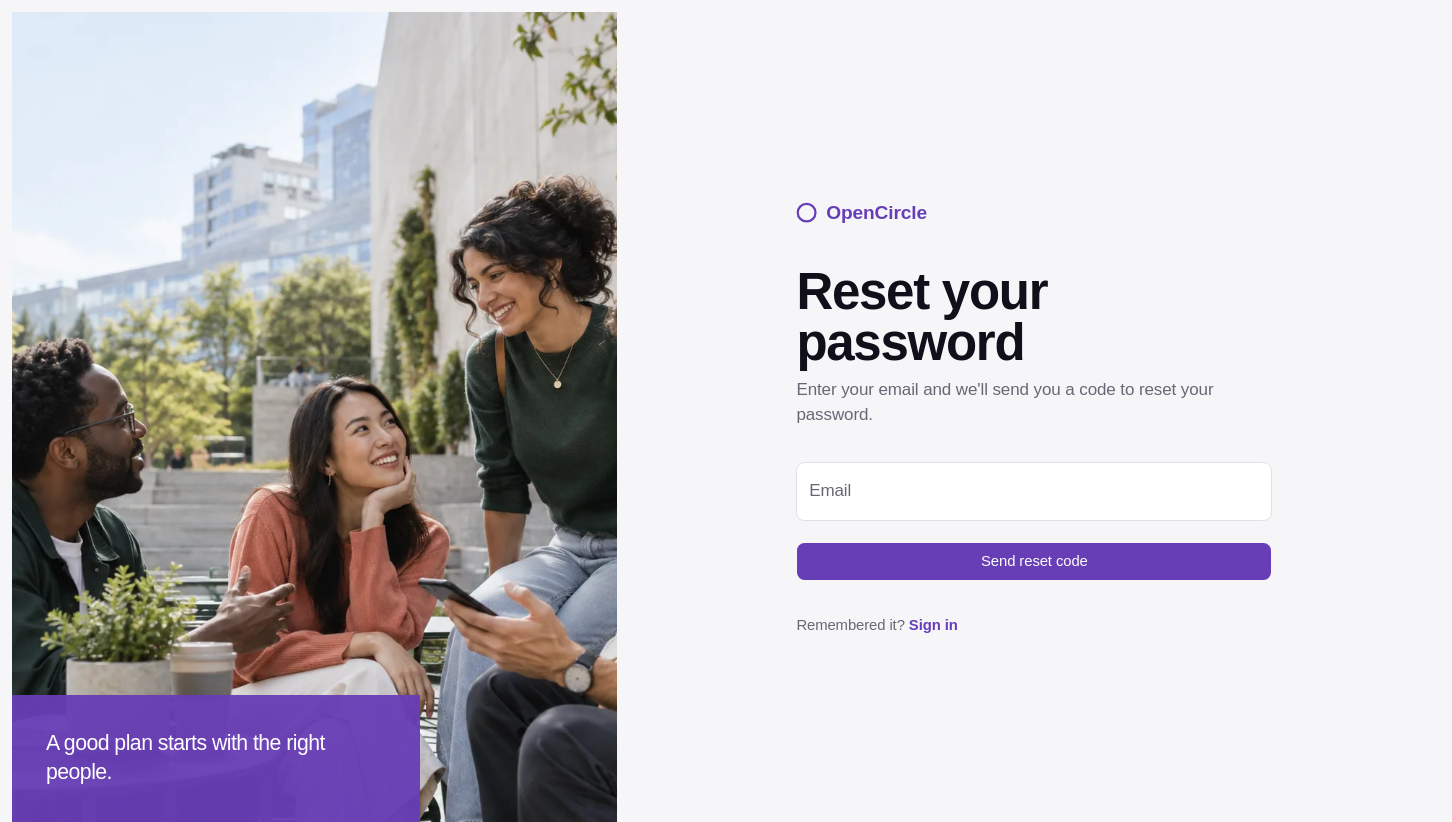
Test: ForgotPasswordPage › shows an error and stays on the page when the request itself fails
Type "maya@example.com" into the field labelled "Email". click: (1034, 491)
box: [796, 462, 1272, 521]
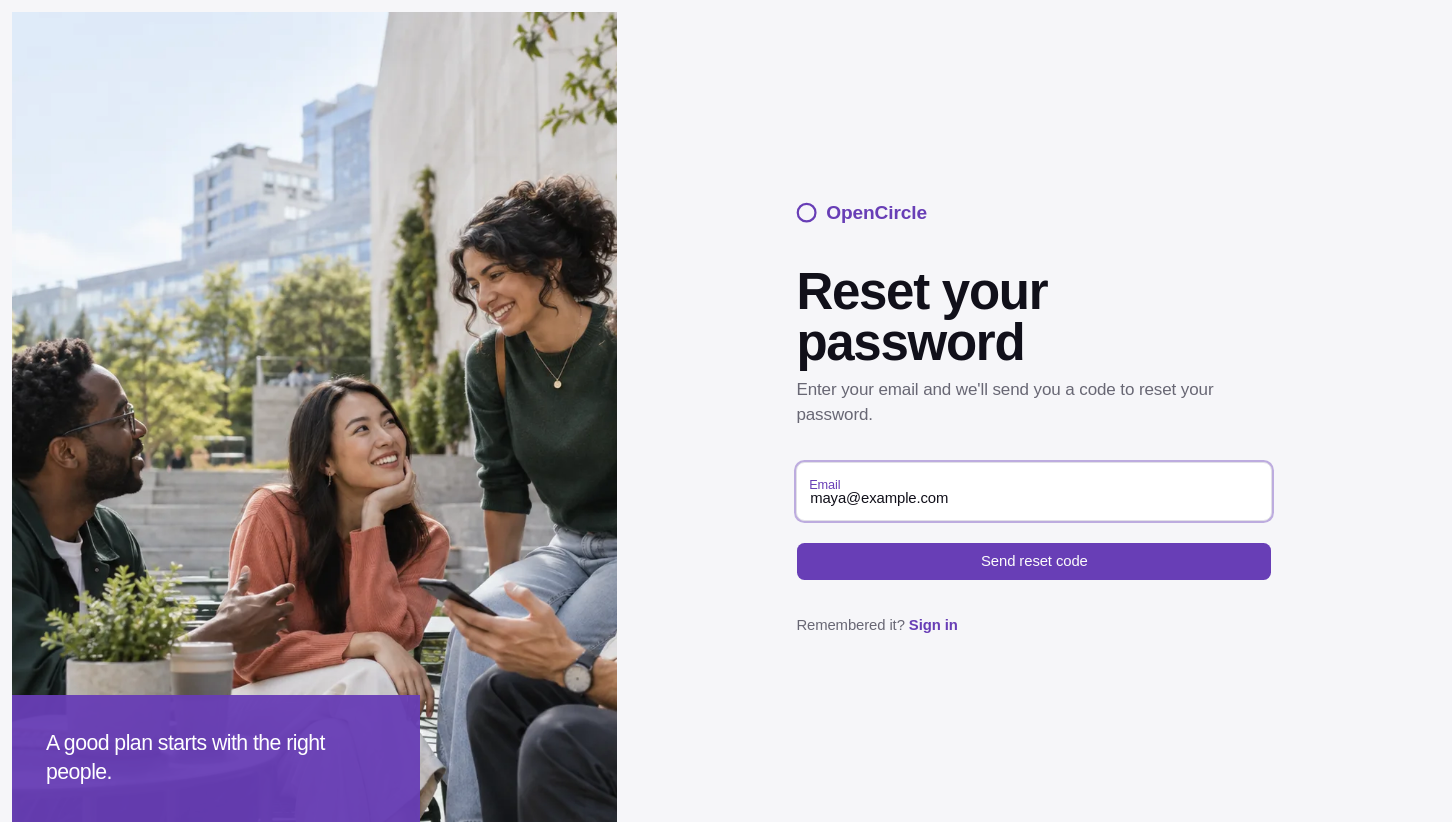
Click the button "Send reset code". click: (1034, 562)
box: [796, 542, 1272, 581]
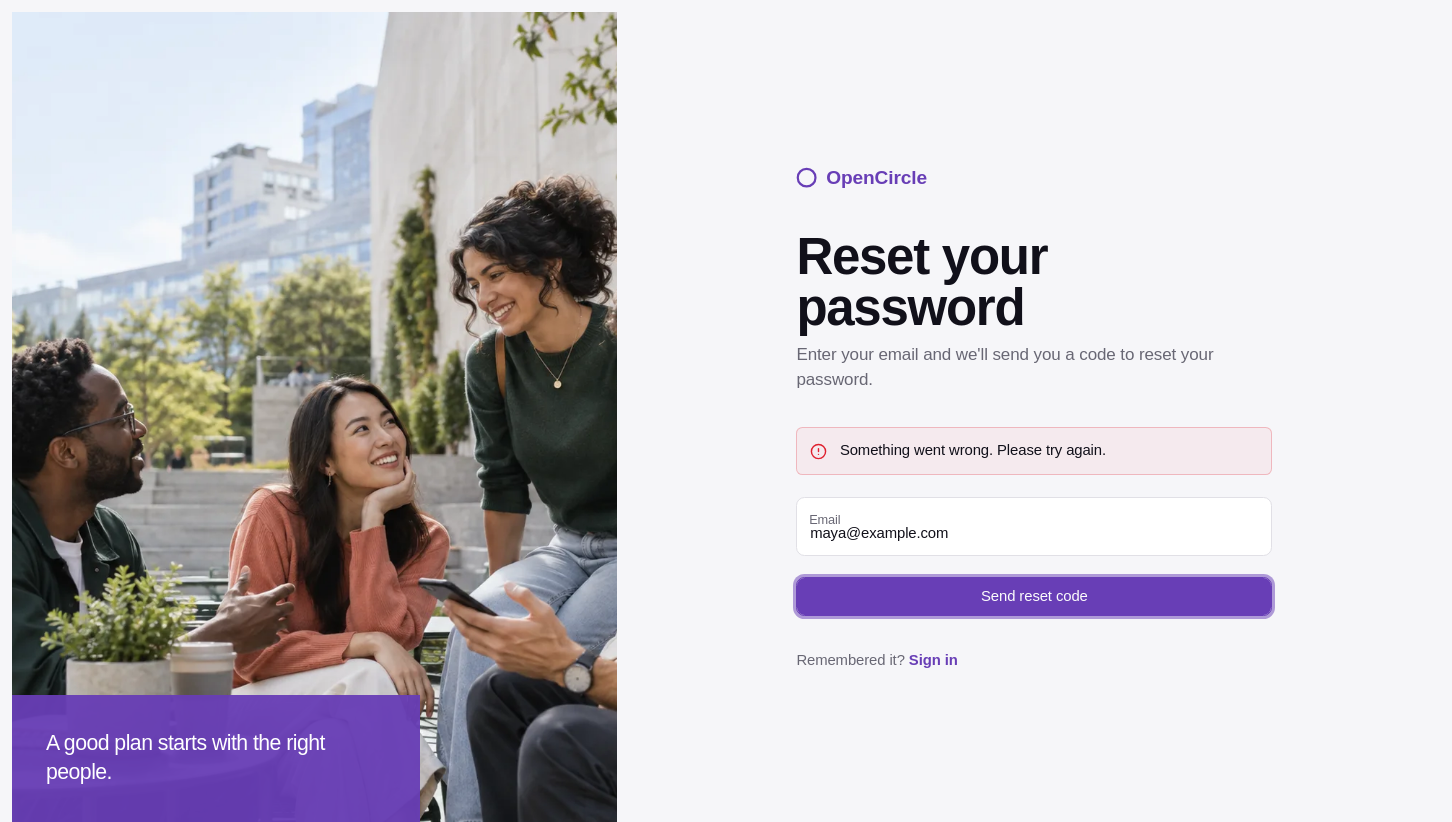
Expected: the text "Something went wrong. Please try again." is shown, [840, 440, 1106, 462]
